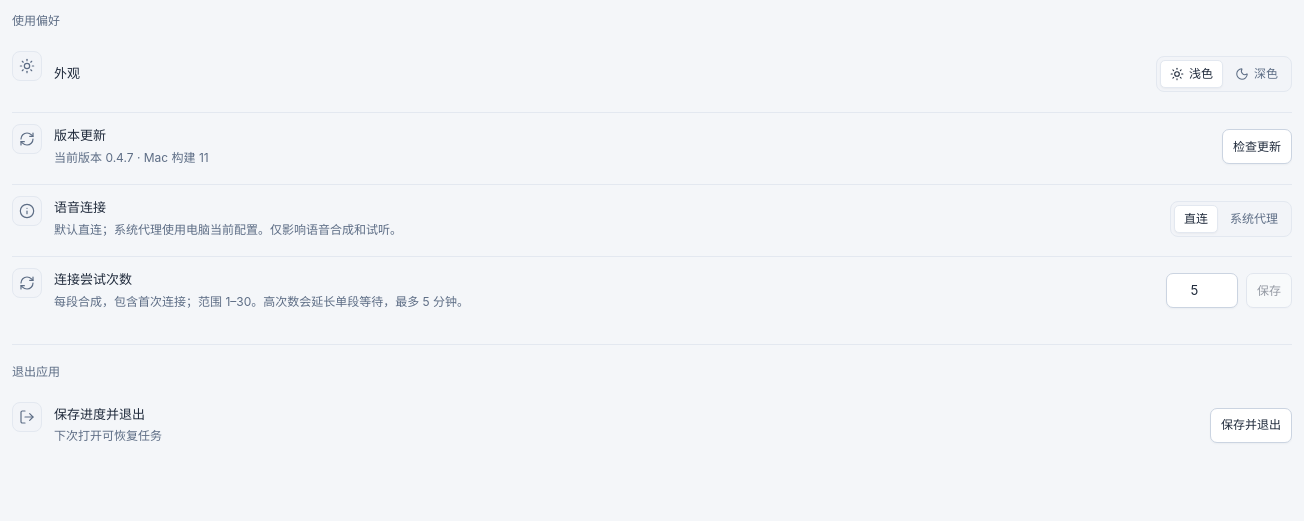
Test: separates discovery from installation and explains cancellation
Click the button "检查更新": {"x": 1257, "y": 146} [1222, 129, 1292, 164]
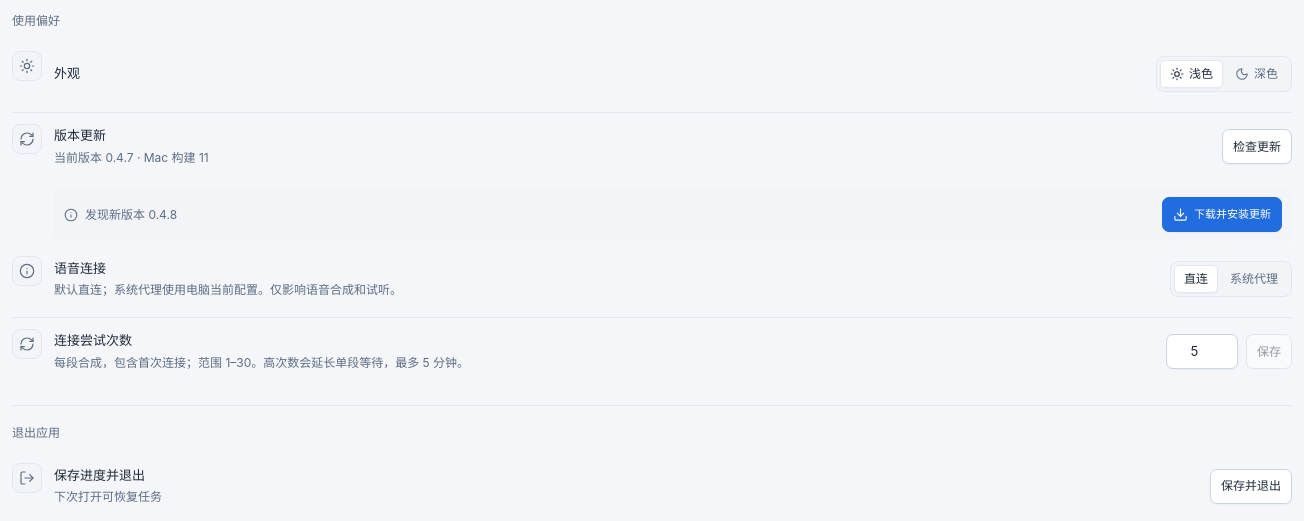
Now the message shows "发现新版本 0.4.8", box [85, 206, 177, 222]
Click the button "下载并安装更新": {"x": 1222, "y": 214} [1162, 197, 1282, 232]
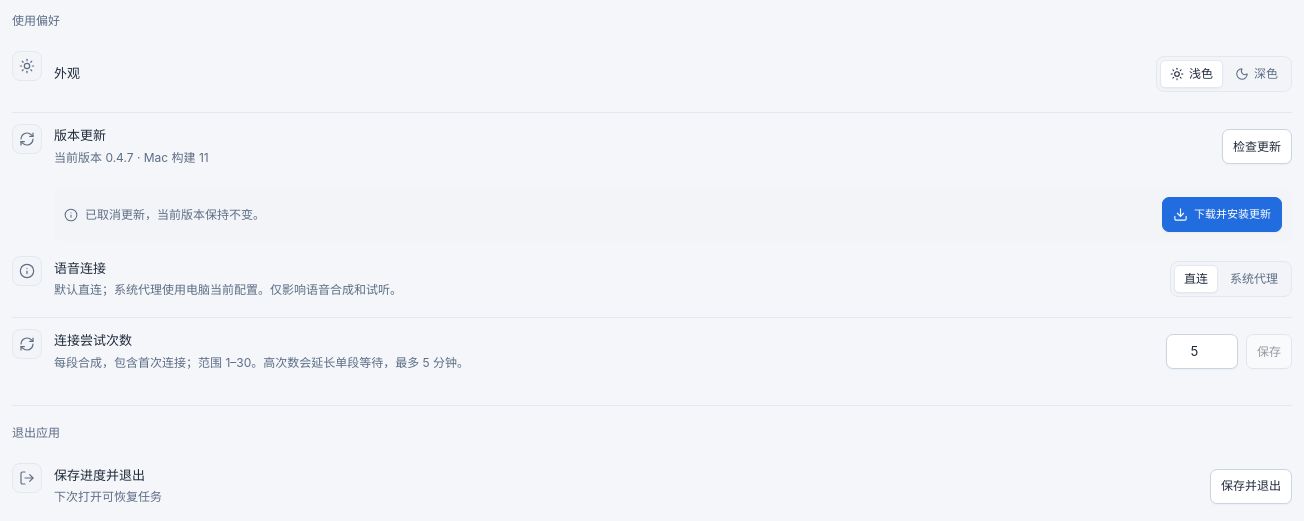
Now the text "已取消更新，当前版本保持不变。" is shown, box [85, 206, 265, 222]
